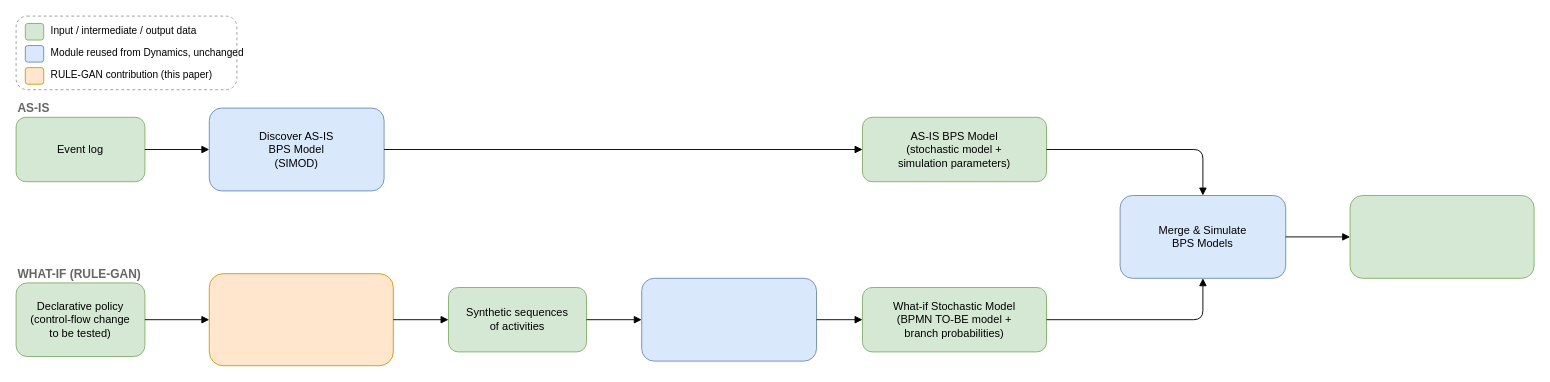
This 1550x382 diagram has some shape labels left out. Each missing label, with the box of its shape:
Discover What-if Stochastic Model: (641, 277, 816, 361)
RULE-GAN Generator (GAN + DECLARE constraint enforcement): (208, 273, 393, 366)
What-if Performance Metrics: (1349, 195, 1534, 278)
